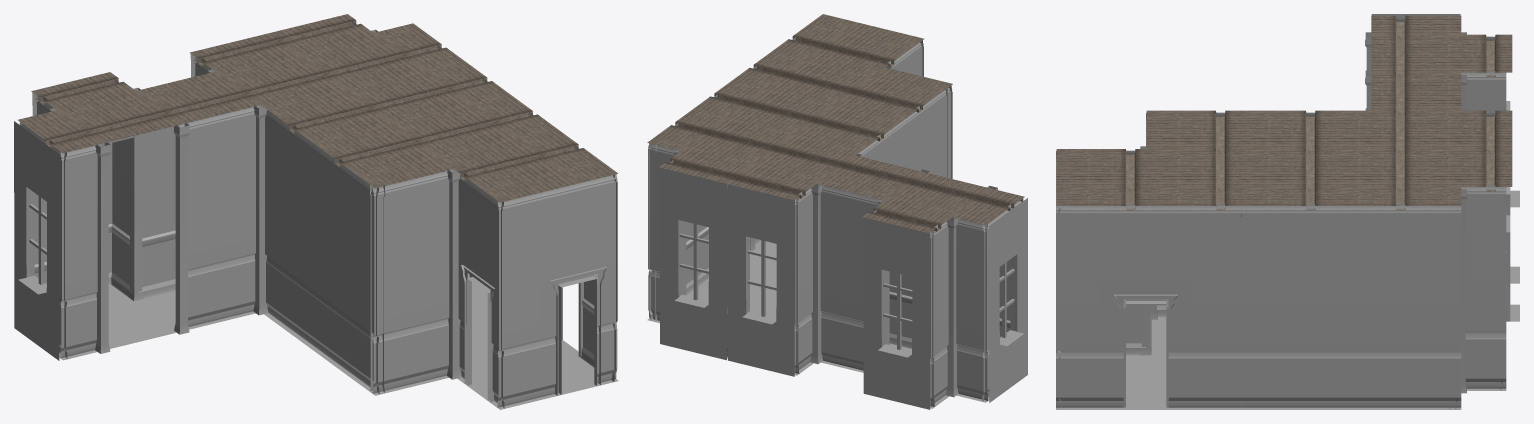
Rendered from room_entrance_first.fbx.
The picture shows the model from 3 angles, left to right: view 1: azimuth 30°, elevation 25°; view 2: azimuth 150°, elevation 25°; view 3: azimuth 270°, elevation 25°; orthographic projection. The views are drawn at different scales.
Parts seen in each view (by area): view 1: wall_5m_doorframe4; view 2: wall_5m_doorframe4; view 3: wall_5m_doorframe4.
Part boxes in pixels (box(x1,y1,x2,y2)): wall_5m_doorframe4: box(14, 14, 618, 409); wall_5m_doorframe4: box(647, 14, 1027, 409); wall_5m_doorframe4: box(1056, 14, 1519, 409).
Bounding box in the file's own units: 1032 × 500 × 1030.
Materials: 4 (1 with a texture image).
